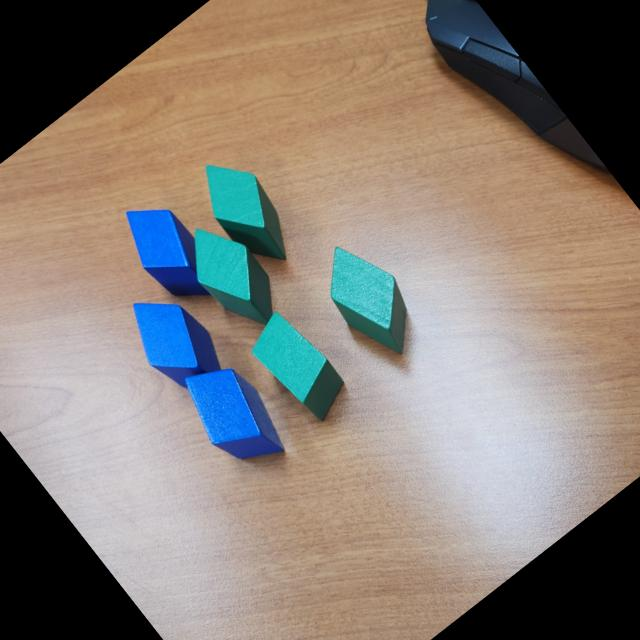blue: (171, 348, 298, 483), (110, 188, 230, 318), (115, 278, 232, 402)
green: (306, 228, 436, 369), (185, 144, 309, 280), (172, 210, 294, 342), (239, 303, 357, 431)
